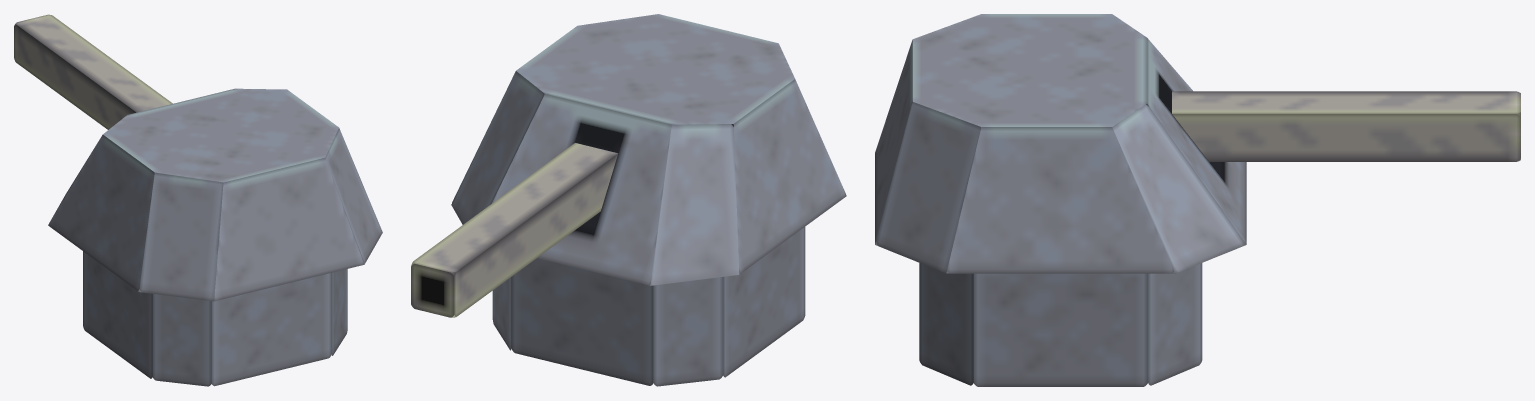
The model's file is naval_gun_v2.obj.
3 renders of one model, left to right at view 1: azimuth 30°, elevation 25°; view 2: azimuth 150°, elevation 25°; view 3: azimuth 270°, elevation 25°, orthographic. The views are drawn at different scales.
Parts seen in each view (by area): view 1: cylinder1, cylinder, cube; view 2: cylinder1, cylinder, cube; view 3: cylinder1, cylinder, cube.
Part boxes in pixels (<box>): cylinder1: <box>48,88,382,301</box>; cylinder: <box>83,251,347,386</box>; cube: <box>14,14,172,129</box>; cylinder1: <box>451,14,846,285</box>; cylinder: <box>492,227,805,386</box>; cube: <box>411,143,618,317</box>; cylinder1: <box>875,14,1246,273</box>; cylinder: <box>919,263,1202,386</box>; cube: <box>1172,91,1520,161</box>.
Size of the model in its own units: 2.5 by 2 by 4.56.
